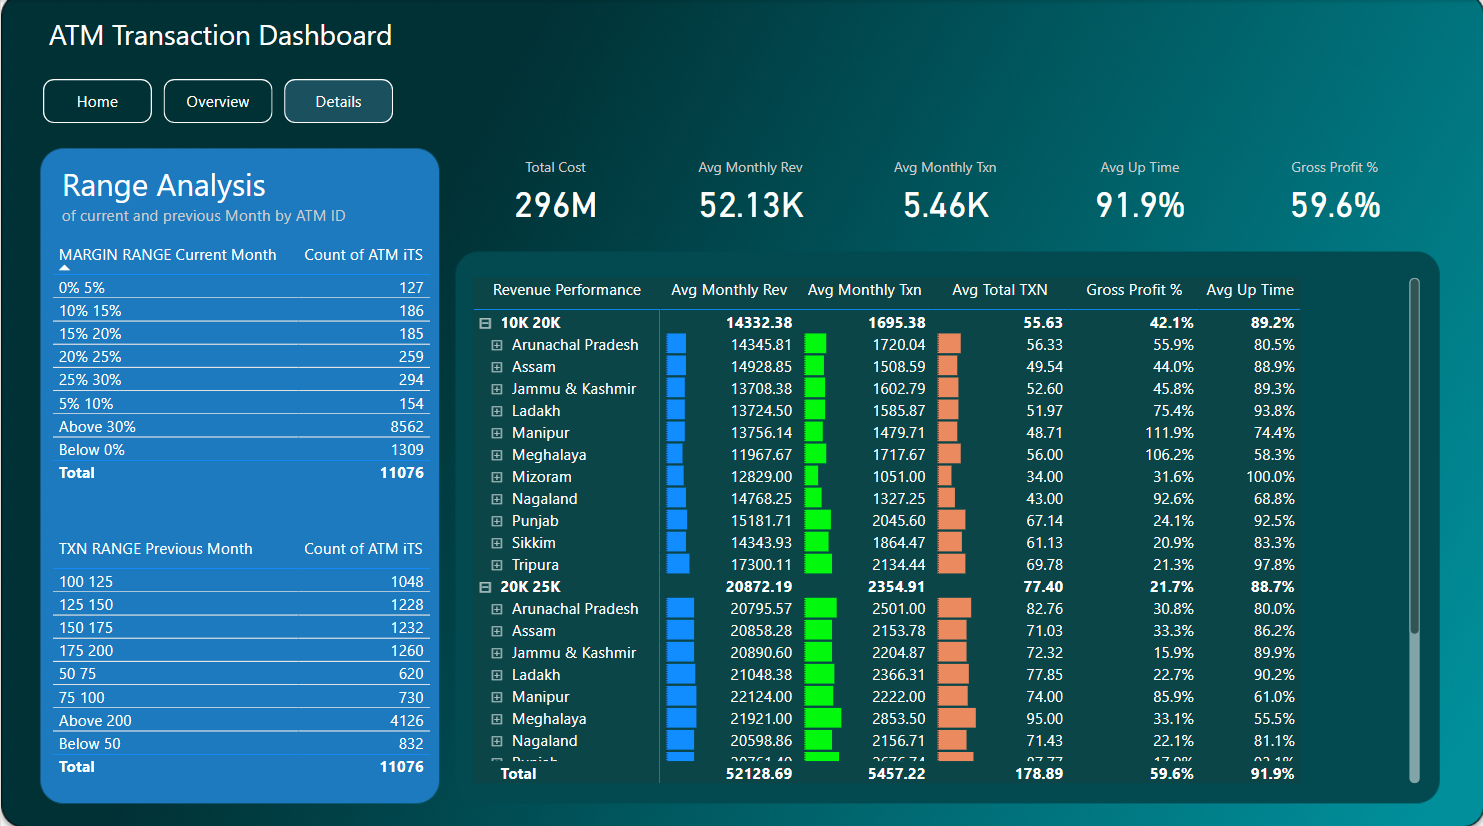

The dashboard page shown, as its layout file describes it:
{"tool":"powerbi","page":{"name":"Details","canvas":[1280,720],"ordinal":2},"visuals":[{"type":"tableEx","fields":{"Values":["data.MARGIN RANGE Current Month","data.ATM iTS"]},"box":[38.7,204.6,336.6,229.4],"z":0},{"type":"tableEx","fields":{"Values":["data.TXN RANGE Previous Month","data.ATM iTS"]},"box":[38.7,457.8,336.6,218.5],"z":1000},{"type":"textbox","box":[47.7,135.1,314.8,79.4],"z":2000},{"type":"pivotTable","fields":{"Rows":["data.Revenue Performance","data.STATE","data.ATM iTS"],"Values":["Avg(data.Monthly Rev)","Avg(data.Monthly Txn)","Avg(data.AVG Total TXN)","data.gross-profit-percentage","Avg(data.Up Time)"]},"box":[403.2,234.4,826.2,445.9],"z":3000},{"type":"cardVisual","fields":{"Data":["Sum(data. Total Cost  )","Avg(data.Monthly Rev)","Avg(data.Monthly Txn)","Avg(data.Up Time)","data.gross-profit-percentage"]},"box":[393.2,118.2,846.1,86.4],"z":4000},{"type":"pageNavigator","box":[36.2,68.1,304.5,38.8],"z":5000},{"type":"textbox","box":[36.2,7.8,316.5,42.3],"z":6000}]}

Visuals, with their boxes in screenshot pixels (x1, y1, x2, y2), scaled from the page's 1280x720 canvas onto the 1483x826 screenshot:
tableEx - data.MARGIN RANGE Current Month x data.ATM iTS: pyautogui.locateOnScreen(45, 235, 435, 498)
tableEx - data.TXN RANGE Previous Month x data.ATM iTS: pyautogui.locateOnScreen(45, 525, 435, 776)
textbox: pyautogui.locateOnScreen(55, 155, 420, 246)
pivotTable - data.Revenue Performance x data.STATE: pyautogui.locateOnScreen(467, 269, 1424, 780)
cardVisual - Sum(data. Total Cost  ) x Avg(data.Monthly Rev): pyautogui.locateOnScreen(456, 136, 1436, 235)
pageNavigator: pyautogui.locateOnScreen(42, 78, 395, 123)
textbox: pyautogui.locateOnScreen(42, 9, 409, 57)
